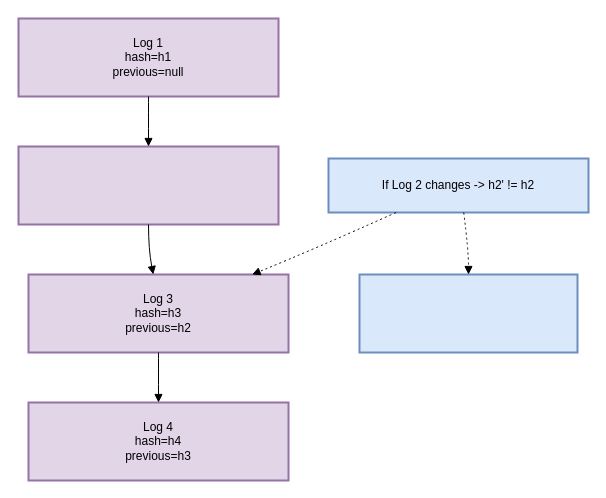
Some shapes in this 606 by 498 pixel diagram are drawn without their labels. Here are the shapes that lost their labels. From the top down, the centre of each, then its label:
At pixel 148 185: "Log 2 hash=h2 previous=h1".
At pixel 468 313: "Verification fails Chain integrity breaks".
